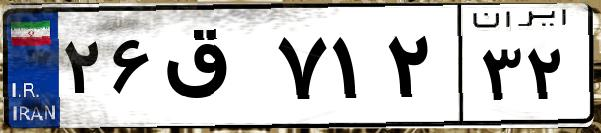1: (330, 28, 385, 110)
2: (385, 28, 445, 110), (57, 26, 110, 100), (525, 38, 570, 115)
3: (475, 38, 525, 113)
6: (110, 28, 158, 98)
7: (270, 28, 330, 110)
ق: (158, 20, 270, 120)
